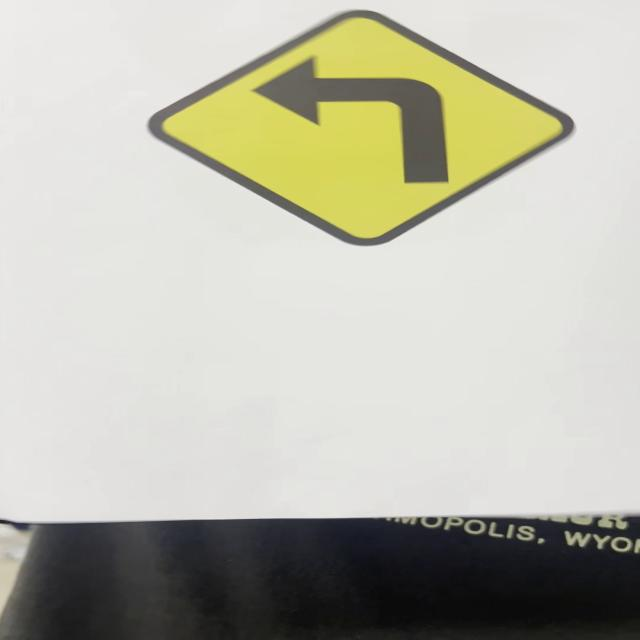left: (149, 10, 575, 247)
